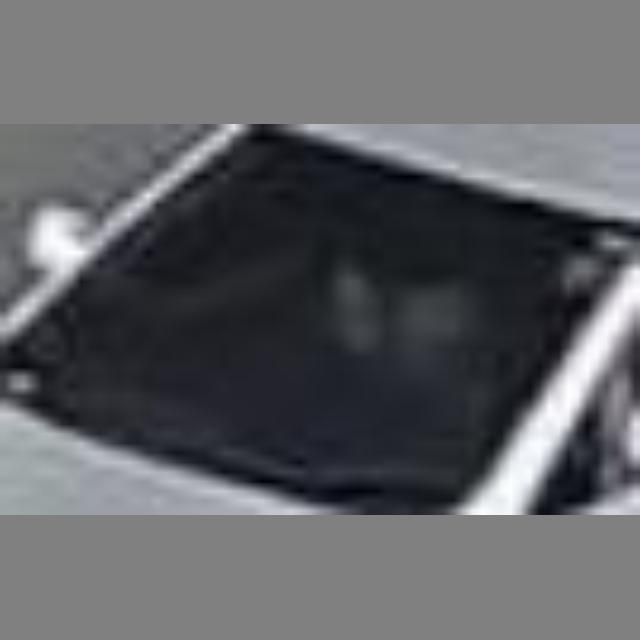pakai: (306, 239, 468, 391)
